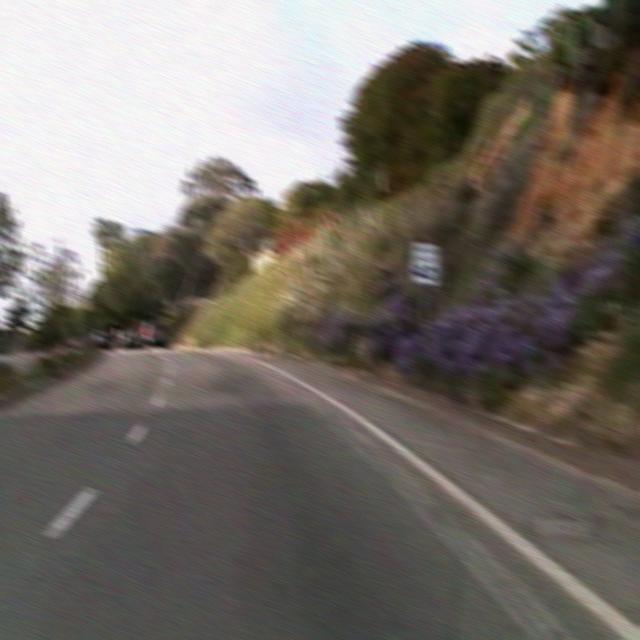speedLimit40: (408, 239, 439, 286)
